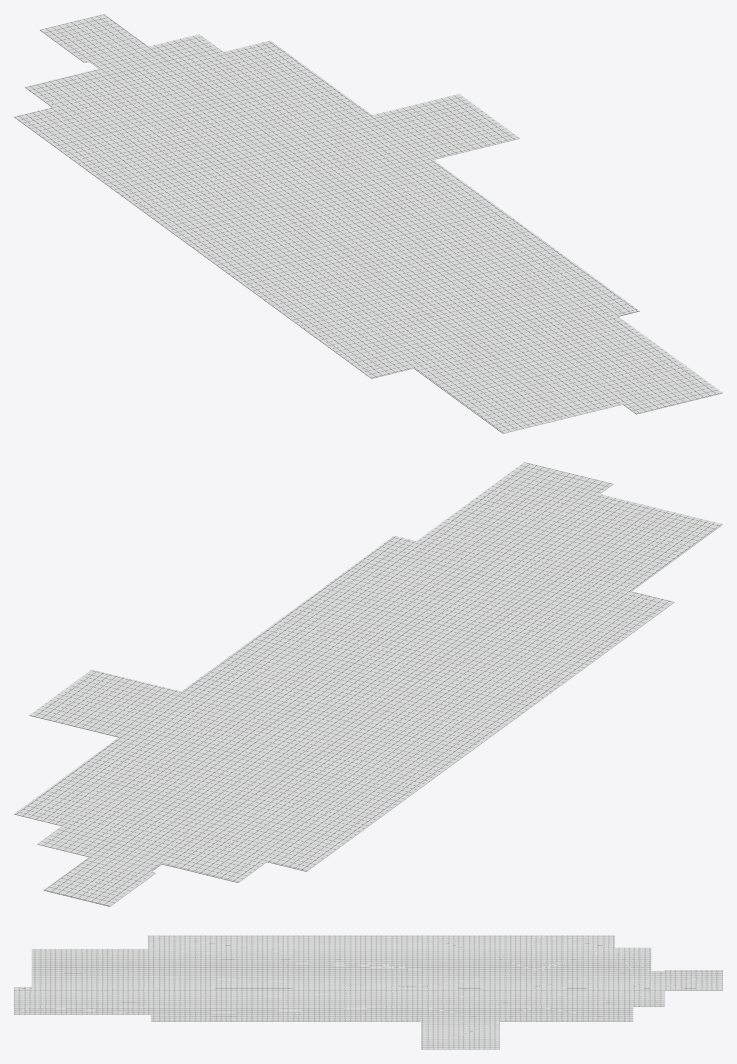
The picture shows the model from 3 angles, top to bottom: view 1: azimuth 30°, elevation 25°; view 2: azimuth 150°, elevation 25°; view 3: azimuth 270°, elevation 25°; orthographic projection. The views are drawn at different scales.
Visible parts, largest first — view 1: SM_顶; view 2: SM_顶; view 3: SM_顶.
Boxes of the visible parts, x1,y1,x2,y2 form: SM_顶: (14, 14, 722, 433); SM_顶: (14, 462, 722, 906); SM_顶: (14, 935, 722, 1049).
Size of the model in its own units: 34777 by 111 by 91486.
